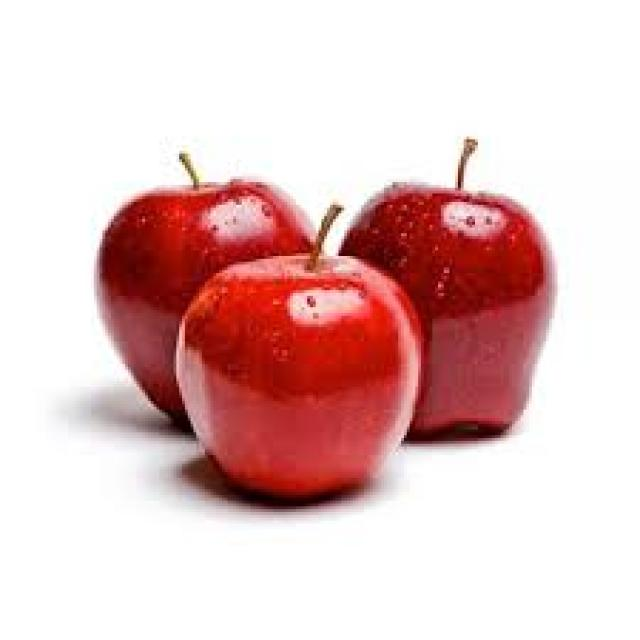apple: (186, 245, 428, 517)
